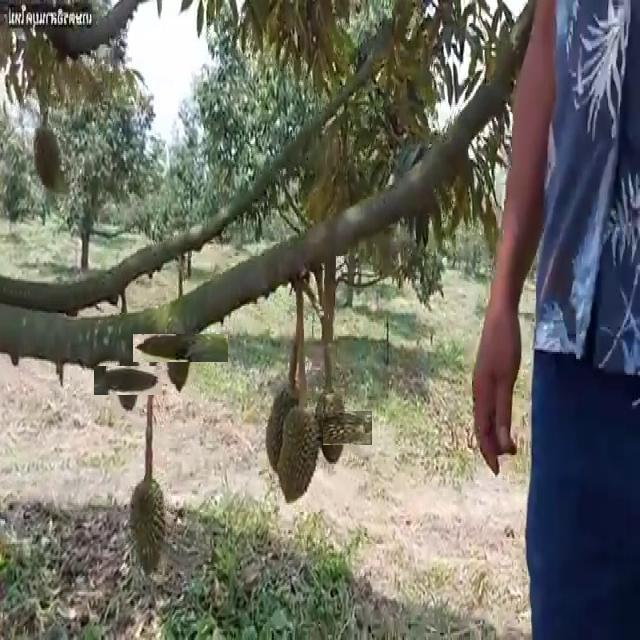durian: (272, 402, 322, 507), (126, 474, 168, 584), (262, 380, 306, 482), (149, 317, 212, 378), (300, 398, 359, 457), (104, 356, 153, 405), (30, 121, 63, 192)
